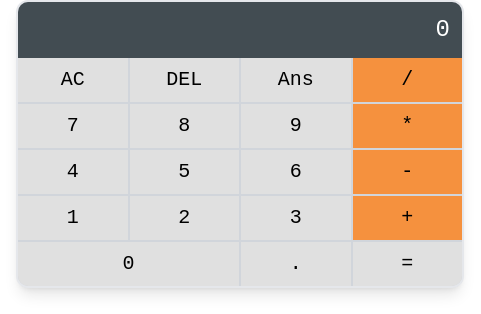
Test: Calculator › should append numbers to the input
The width and height of the screenshot is (481, 314).
Click the button "1": [73, 218] box [18,196,128,240]
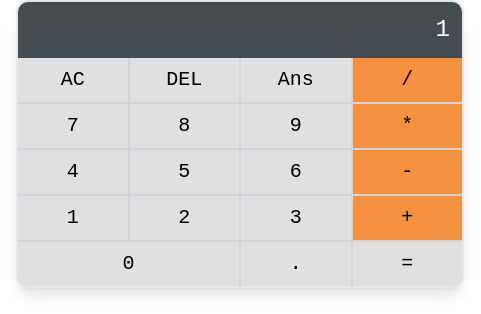
Click the button "2": [184, 218] box [130,196,239,240]
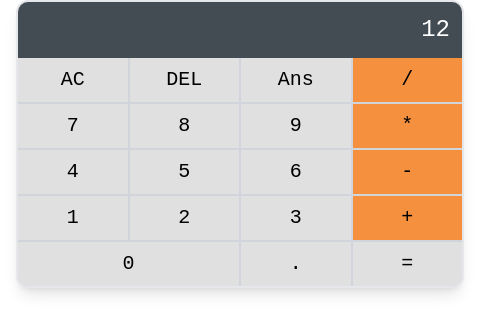
Expected: the text with test id "input" reads "12", [421,16,450,43]
